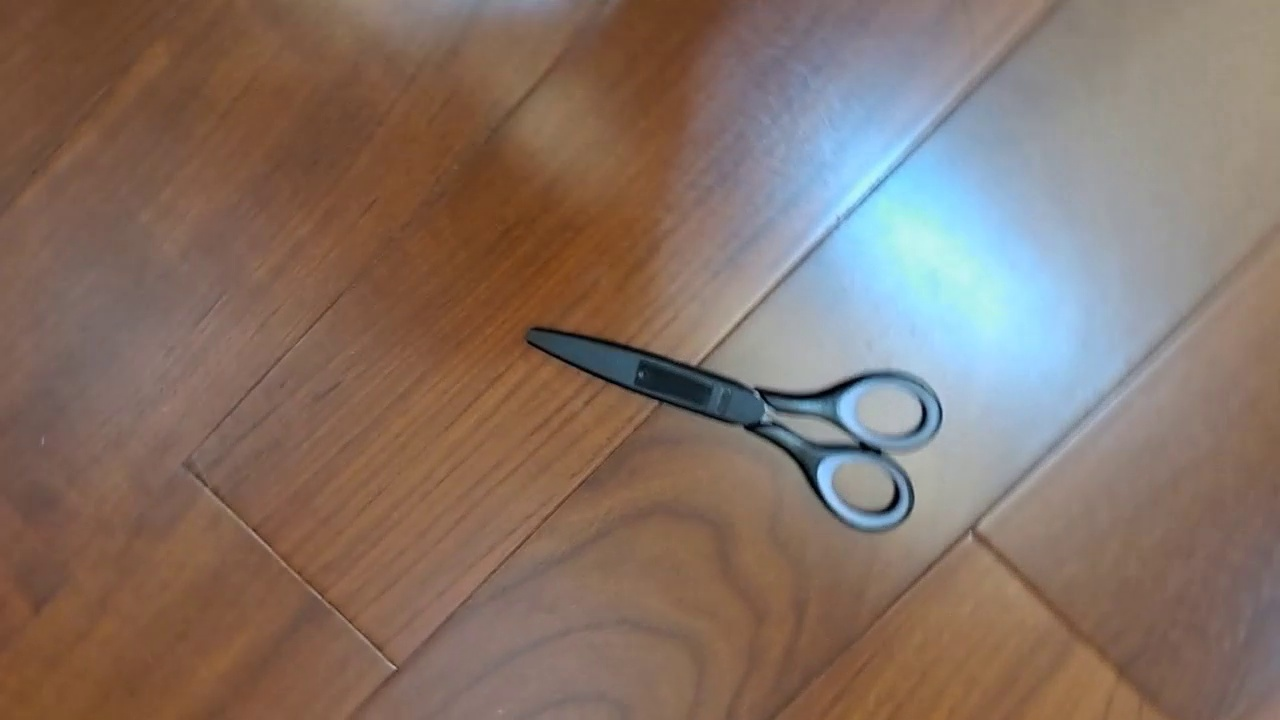scissors: (522, 325, 943, 533)
